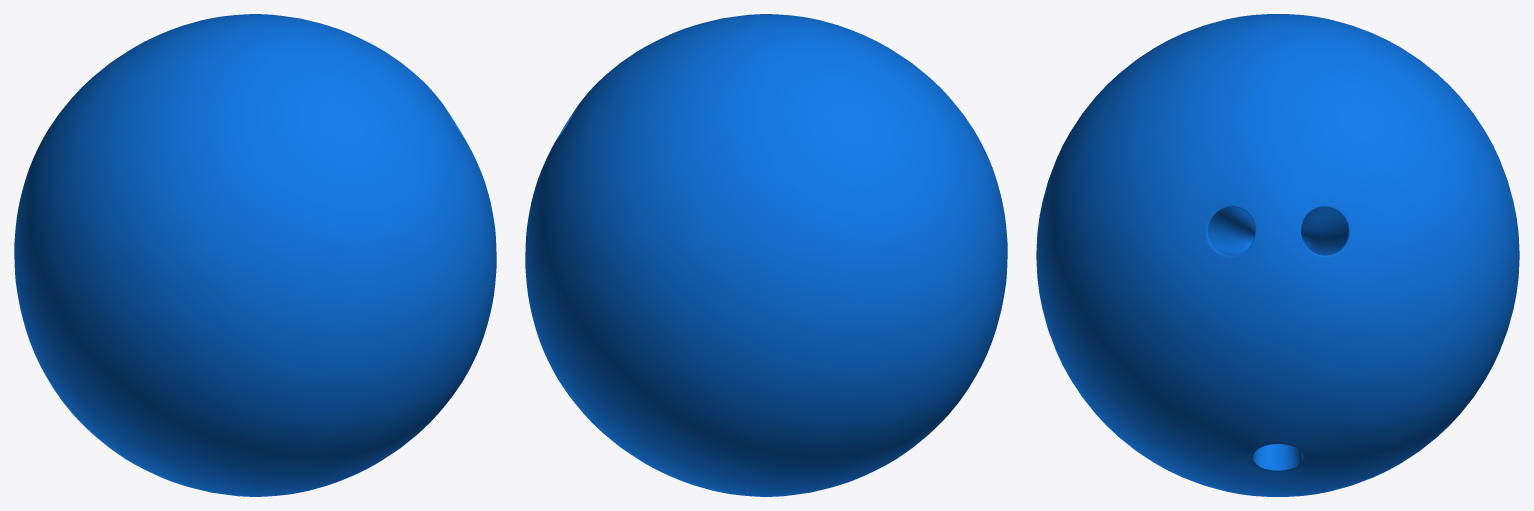
The model's file is bowlingBall.fbx.
3 views of the same model, side by side, from view 1: azimuth 30°, elevation 25°; view 2: azimuth 150°, elevation 25°; view 3: azimuth 270°, elevation 25° (orthographic).
Visible parts, largest first — view 1: Bowling Ball; view 2: Bowling Ball; view 3: Bowling Ball.
Boxes of the visible parts, x1,y1,x2,y2 form: Bowling Ball: (14, 14, 496, 496); Bowling Ball: (525, 14, 1007, 496); Bowling Ball: (1036, 14, 1519, 496).
Size of the model in its own units: 21.55 by 21.67 by 21.56.
